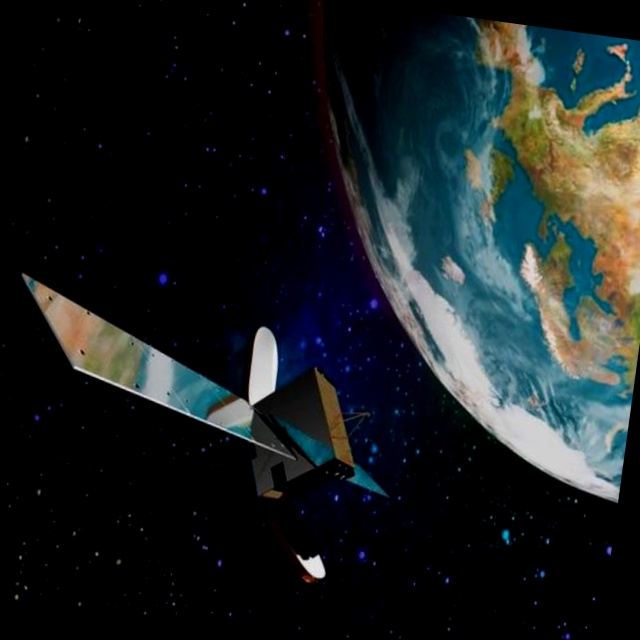medium_debris: (0, 257, 424, 594)
